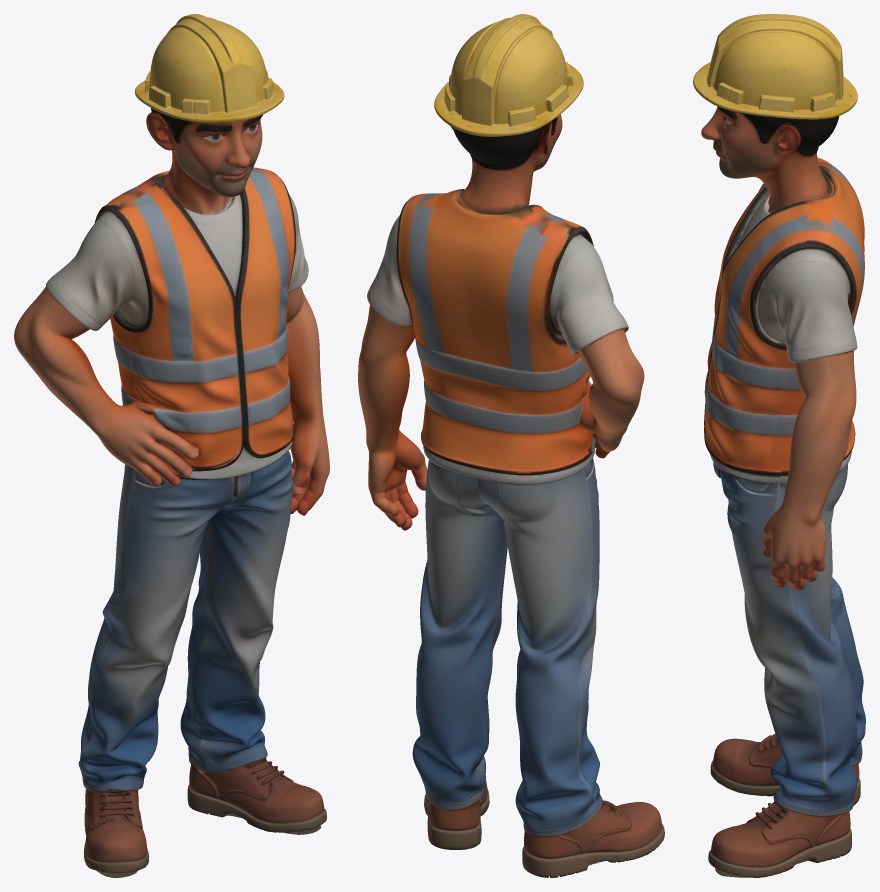
The model's file is agent-17.glb.
3 views of the same model, side by side, from view 1: azimuth 30°, elevation 25°; view 2: azimuth 150°, elevation 25°; view 3: azimuth 270°, elevation 25° (orthographic).
Parts seen in each view (by area): view 1: material; view 2: material; view 3: material.
Boxes of the visible parts, x1,y1,x2,y2 form: material: [14, 14, 329, 877]; material: [358, 14, 664, 877]; material: [693, 14, 865, 877].
Size of the model in its own units: 0.4256 by 1.15 by 0.2202.
1 material, 1 textured.
